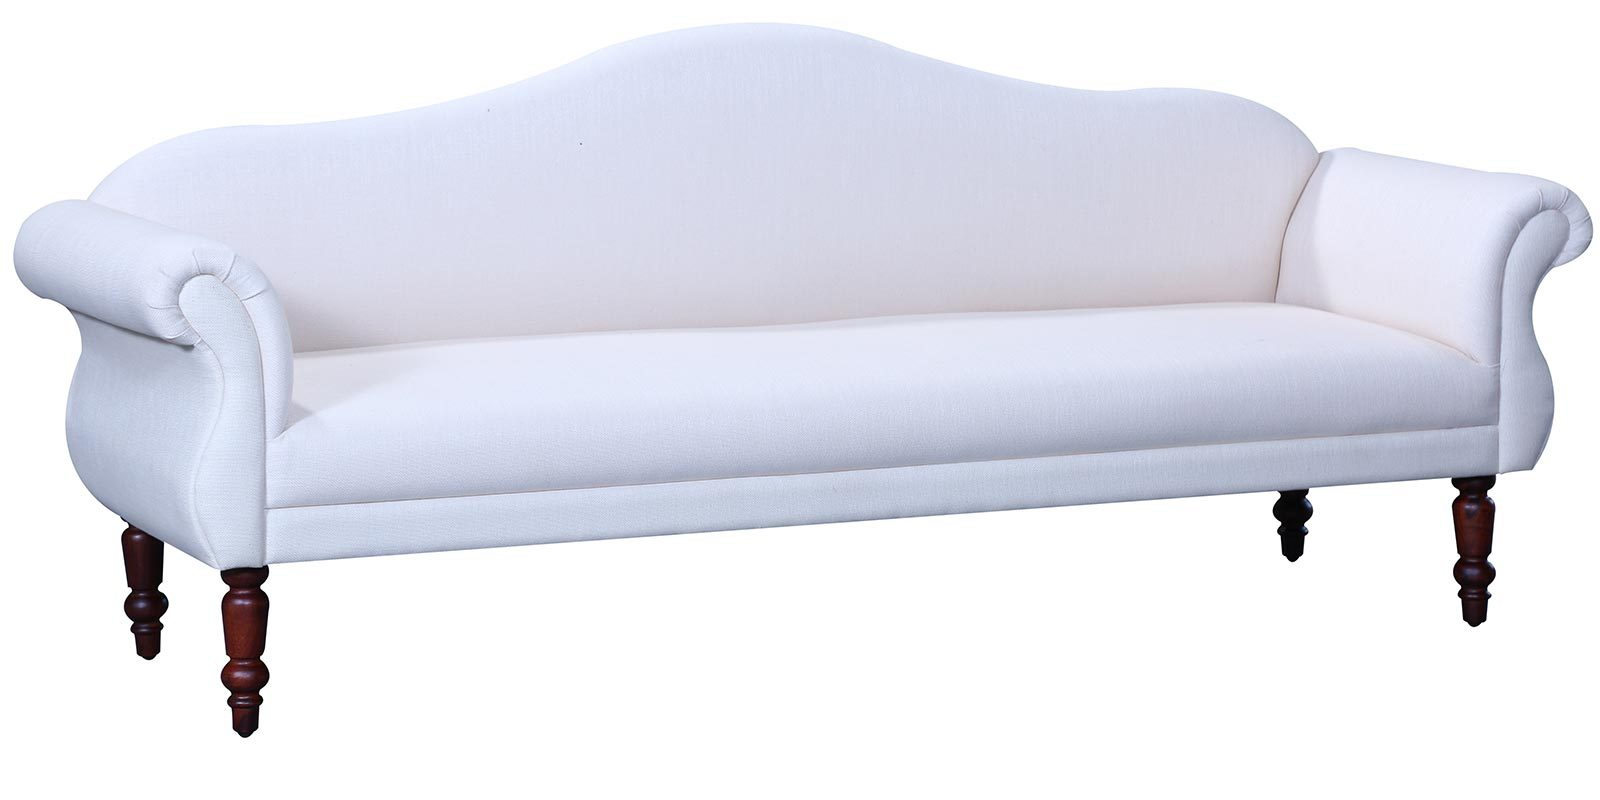Harleston Three Seater Sofa in Honey Oak Finish by Amberville: (14, 11, 1600, 754)
